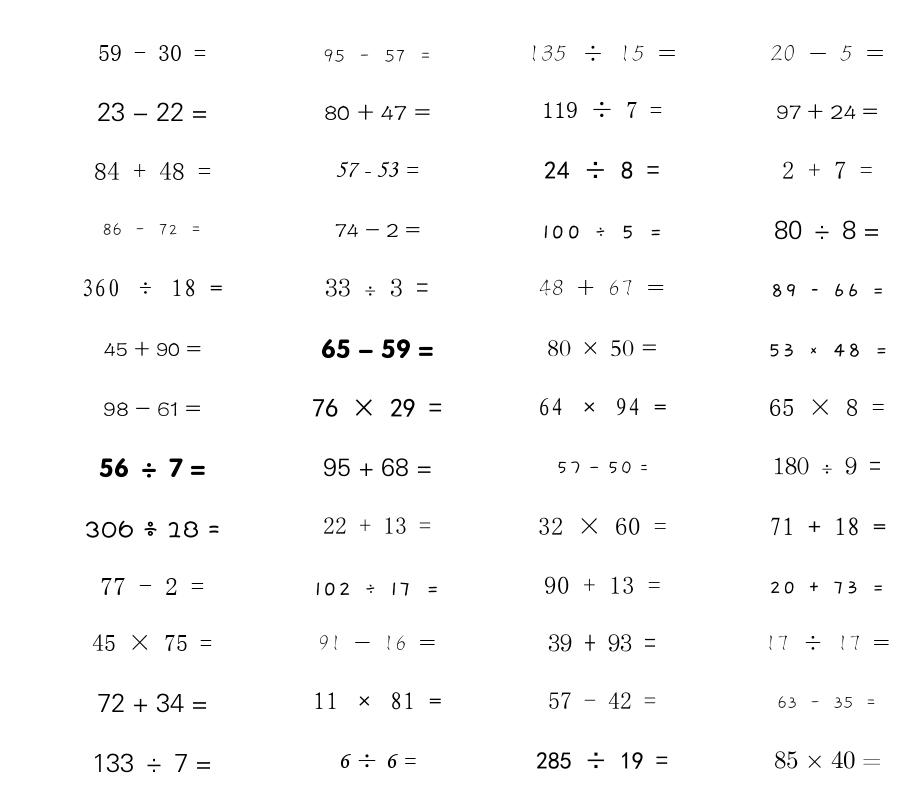MQ: (81, 279, 223, 297), (528, 45, 676, 62), (312, 398, 442, 417), (84, 520, 220, 538), (92, 753, 212, 773), (538, 398, 667, 416), (538, 517, 667, 535), (313, 692, 442, 710), (321, 339, 434, 359), (536, 752, 668, 769), (769, 517, 886, 536), (97, 102, 208, 122), (97, 693, 208, 713), (539, 279, 665, 296), (99, 458, 206, 478), (774, 220, 880, 240), (94, 162, 211, 180), (544, 576, 661, 594), (544, 161, 660, 179), (323, 458, 432, 477), (542, 101, 662, 118), (92, 634, 212, 651), (765, 635, 890, 651), (325, 278, 429, 297), (769, 399, 885, 416), (773, 457, 881, 475), (548, 634, 656, 652), (774, 751, 881, 769), (318, 635, 436, 651), (547, 340, 658, 357), (323, 517, 431, 534), (548, 692, 656, 709), (770, 45, 884, 61), (324, 104, 431, 121), (100, 578, 204, 595), (314, 582, 440, 596), (776, 103, 878, 120), (98, 45, 206, 61), (542, 225, 663, 239), (767, 343, 888, 357), (782, 161, 873, 179), (770, 283, 885, 297), (104, 341, 201, 357), (323, 49, 432, 63), (769, 581, 885, 594), (335, 161, 419, 178), (103, 402, 201, 416), (556, 461, 649, 475), (102, 223, 202, 236), (777, 696, 877, 709), (335, 223, 420, 238), (338, 754, 416, 768)
